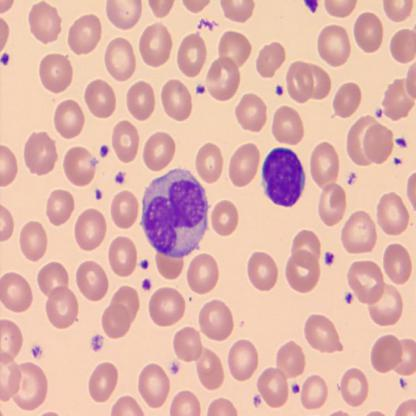Monocyte: (138, 167, 212, 260), (259, 146, 308, 209)
